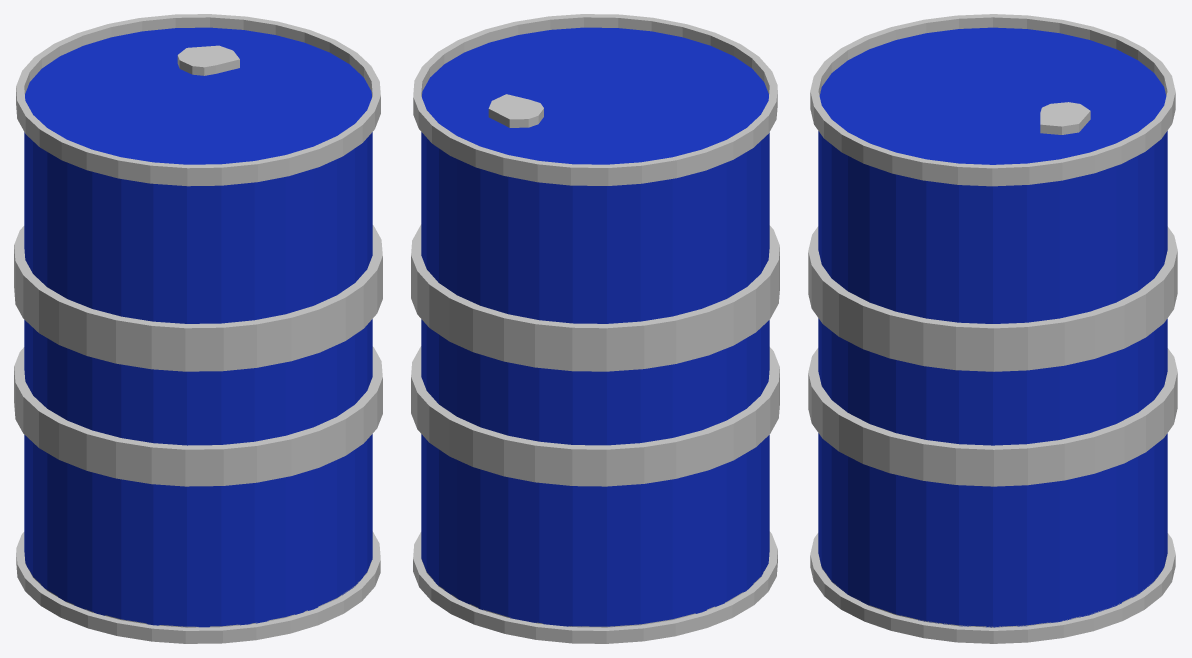
File: ドラム缶 青.fbx
3 renders of one model, left to right at view 1: azimuth 30°, elevation 25°; view 2: azimuth 150°, elevation 25°; view 3: azimuth 270°, elevation 25°, orthographic.
Visible parts, largest first — view 1: Cylinder; view 2: Cylinder; view 3: Cylinder.
Part boxes in pixels (x1,y1,x2,y2): Cylinder: (14, 14, 382, 643); Cylinder: (411, 14, 779, 643); Cylinder: (808, 14, 1177, 643).
Size of the model in its own units: 212 by 301 by 212.
